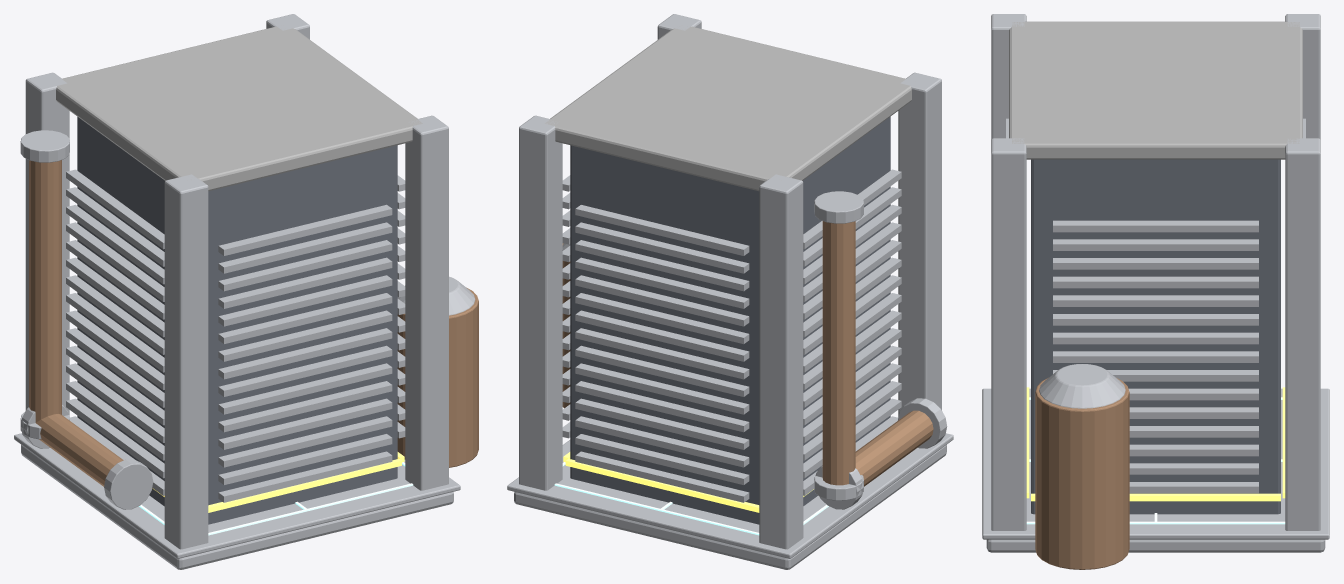
File: mech_2x2_office.glb
3 views of the same model, side by side, from view 1: azimuth 30°, elevation 25°; view 2: azimuth 150°, elevation 25°; view 3: azimuth 270°, elevation 25° (orthographic). The views are drawn at different scales.
Visible parts, largest first — view 1: ext_core, int_columns, int_ceiling, ext_louver3, ext_louver2, int_slab_edge, ext_bigpipe2, int_slab, ext_tank, ext_bigpipe, ext_bigpipe_fl0, ext_louver0 (+4 smaller); view 2: int_columns, ext_core, int_ceiling, ext_louver1, ext_louver2, int_slab_edge, ext_bigpipe2, int_slab, ext_bigpipe, ext_louver0, ext_mech_glow, ext_bigpipe2_fl1 (+4 smaller); view 3: ext_core, int_ceiling, int_columns, ext_louver0, ext_tank, int_slab_edge, int_slab, ext_tank_cap, ext_mech_glow, int_grid.
Part boxes in pixels (x1=…): ext_core: x1=77, y1=117, x2=397, y2=524; int_columns: x1=25, y1=14, x2=448, y2=549; int_ceiling: x1=56, y1=26, x2=422, y2=191; ext_louver3: x1=218, y1=204, x2=392, y2=502; ext_louver2: x1=66, y1=169, x2=164, y2=495; int_slab_edge: x1=14, y1=433, x2=460, y2=558; ext_bigpipe2: x1=29, y1=160, x2=61, y2=422; int_slab: x1=21, y1=445, x2=453, y2=569; ext_tank: x1=397, y1=287, x2=478, y2=467; ext_bigpipe: x1=36, y1=414, x2=123, y2=486; ext_bigpipe_fl0: x1=104, y1=459, x2=153, y2=509; ext_louver0: x1=397, y1=175, x2=405, y2=438; int_columns: x1=519, y1=14, x2=941, y2=549; ext_core: x1=570, y1=116, x2=890, y2=524; int_ceiling: x1=545, y1=26, x2=911, y2=191; ext_louver1: x1=575, y1=205, x2=749, y2=502; ext_louver2: x1=803, y1=169, x2=901, y2=495; int_slab_edge: x1=507, y1=433, x2=953, y2=558; ext_bigpipe2: x1=822, y1=221, x2=855, y2=485; int_slab: x1=514, y1=444, x2=946, y2=569; ext_bigpipe: x1=855, y1=410, x2=933, y2=486; ext_louver0: x1=562, y1=175, x2=570, y2=438; ext_mech_glow: x1=563, y1=452, x2=813, y2=512; ext_bigpipe2_fl1: x1=814, y1=191, x2=863, y2=223; ext_core: x1=1031, y1=159, x2=1280, y2=514; int_ceiling: x1=1009, y1=21, x2=1302, y2=159; int_columns: x1=991, y1=14, x2=1320, y2=530; ext_louver0: x1=1053, y1=220, x2=1258, y2=493; ext_tank: x1=1035, y1=377, x2=1129, y2=569; int_slab_edge: x1=982, y1=388, x2=1329, y2=539; int_slab: x1=986, y1=539, x2=1325, y2=552; ext_tank_cap: x1=1039, y1=364, x2=1125, y2=408; ext_mech_glow: x1=1026, y1=387, x2=1285, y2=501; int_grid: x1=1026, y1=397, x2=1285, y2=524.
Bounding box in the file's own units: 3.1 × 3 × 2.36.
